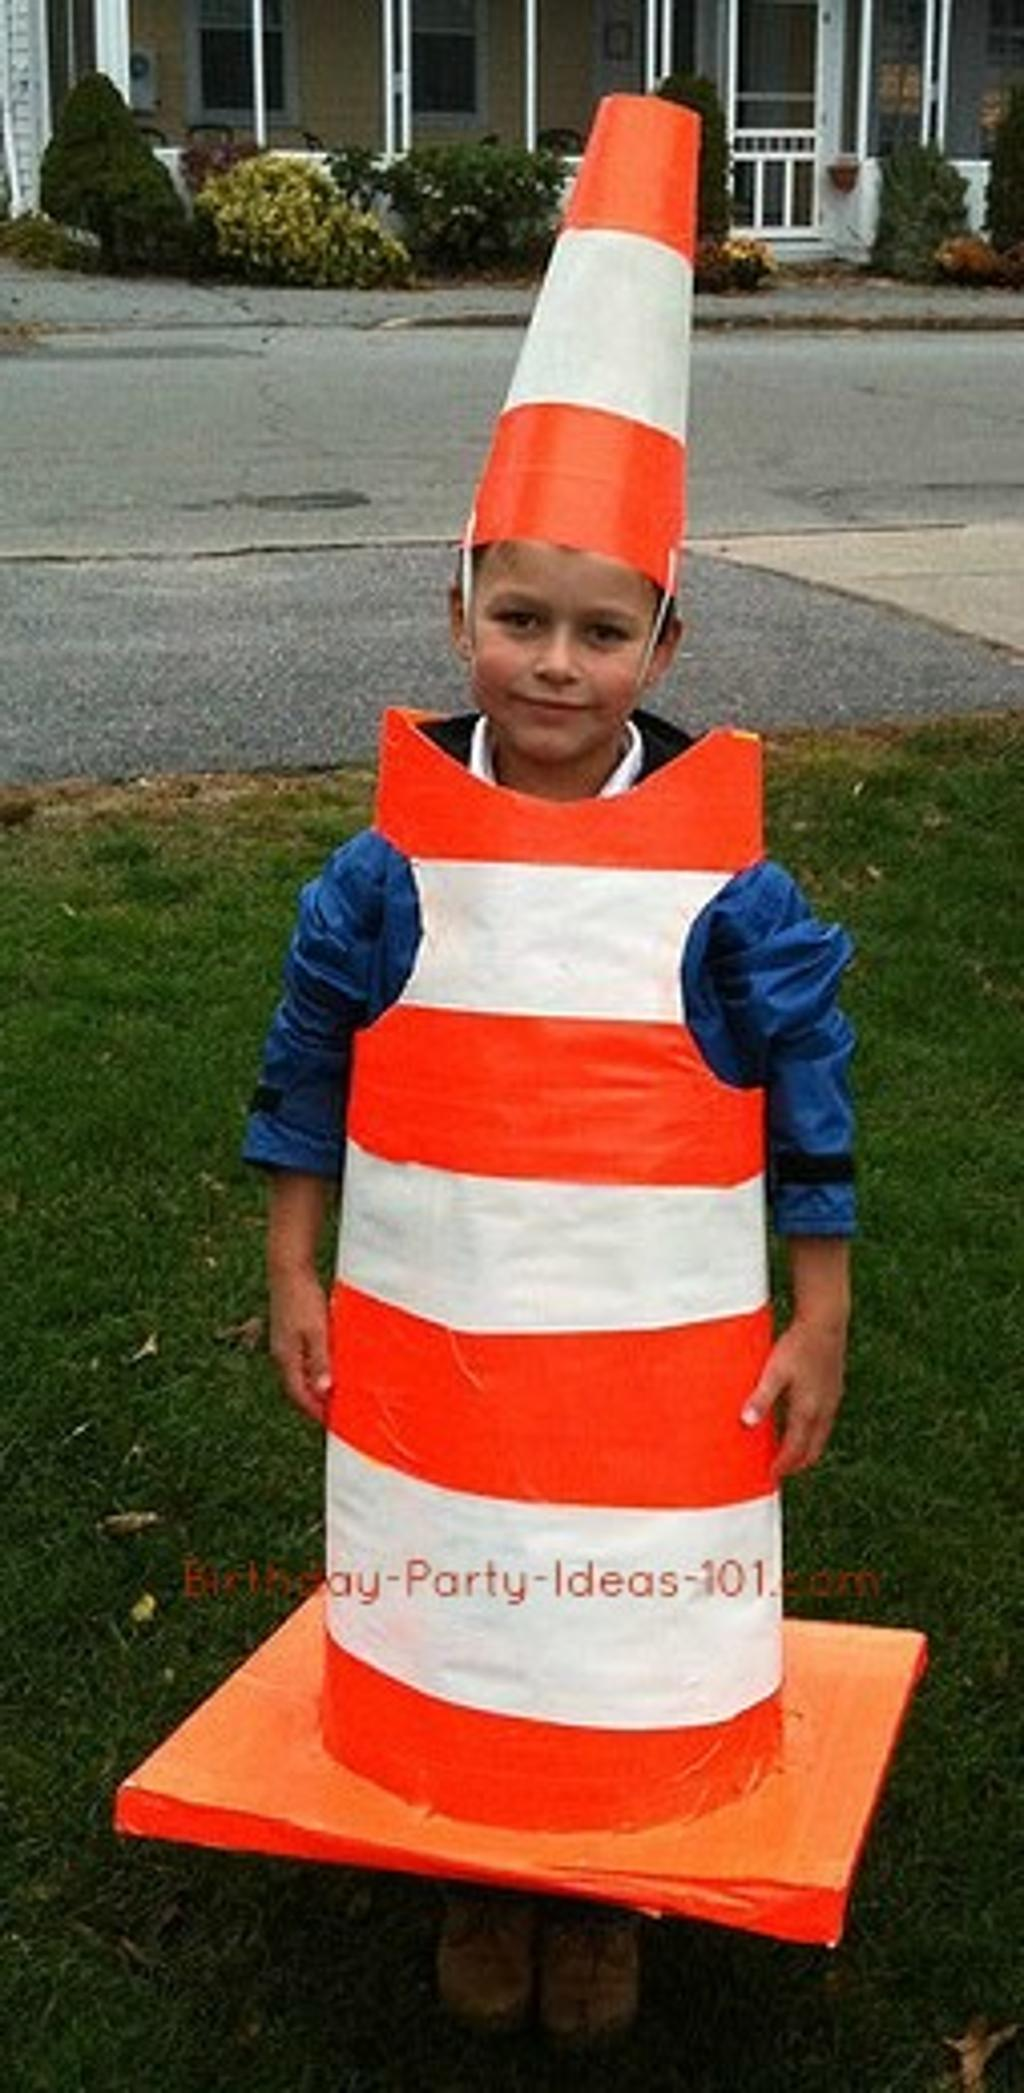face: (477, 522, 644, 755)
